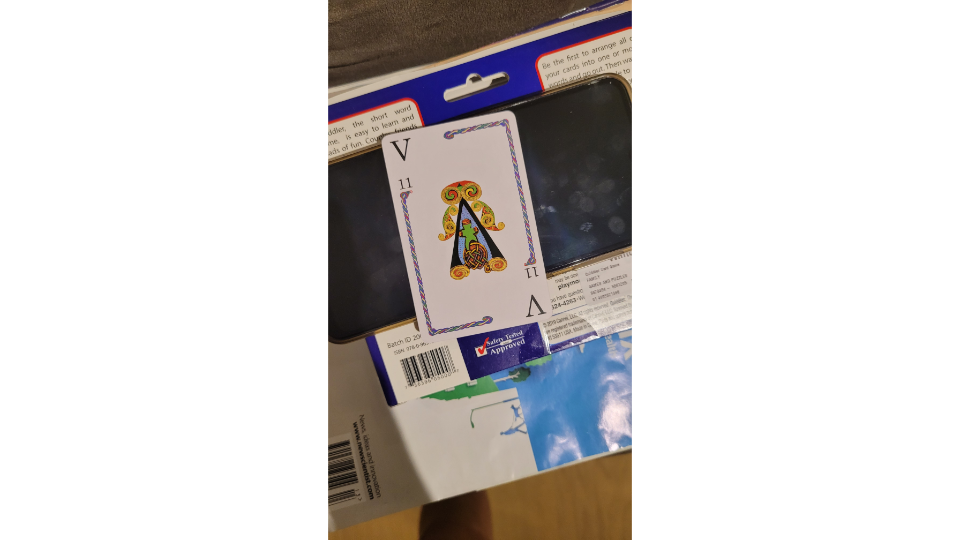V: (377, 106, 557, 344)
